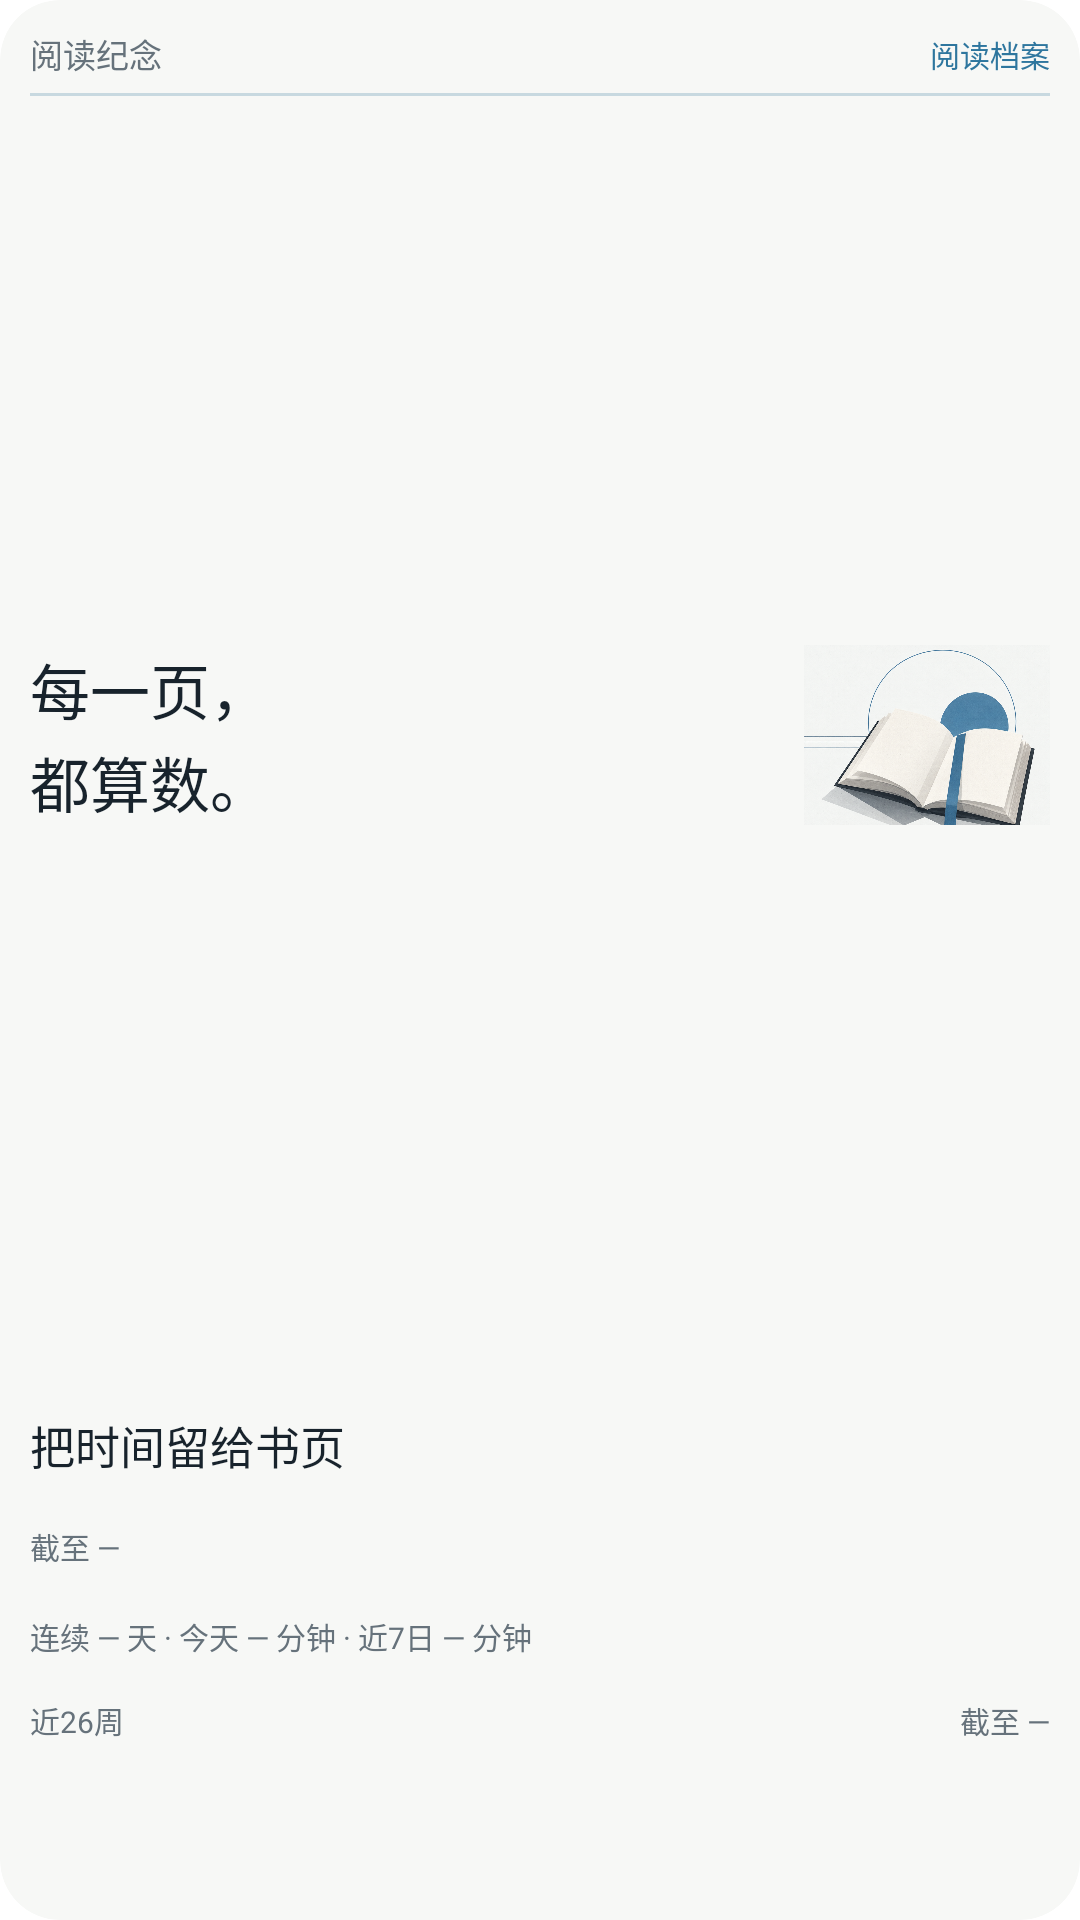

Icons on this 1080px x 1920px Android screen, each with its box as (x1, y1, x2, y2):
reading widget art archive: (804, 650, 1035, 825)
